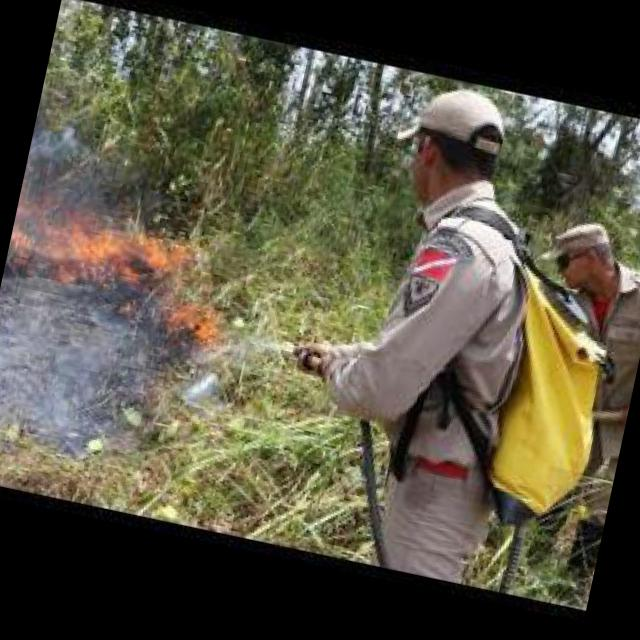fire: (6, 195, 206, 300), (167, 294, 236, 346)
